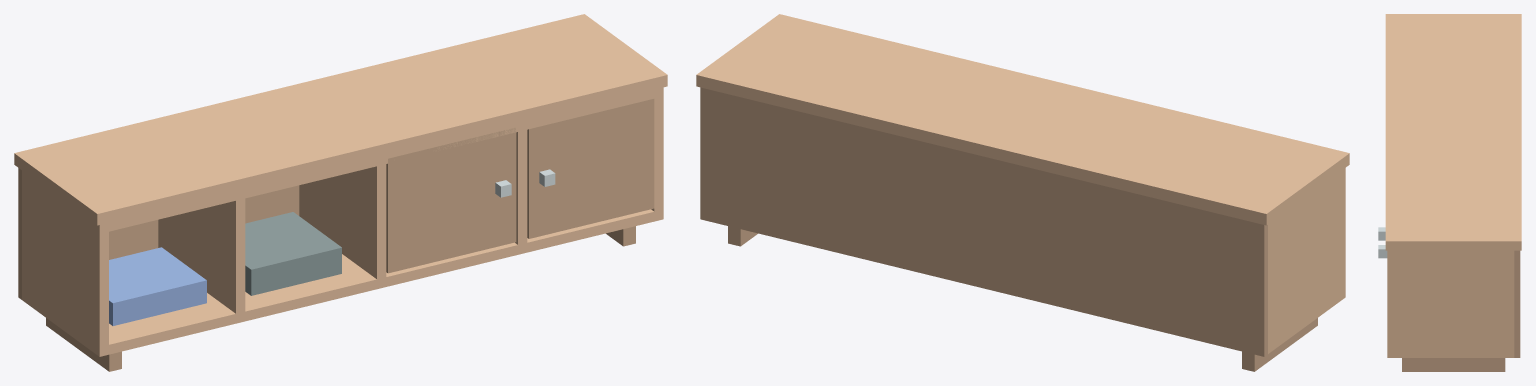
Rendered from mediaCabinetModern.glb.
The picture shows the model from 3 angles, left to right: view 1: azimuth 30°, elevation 25°; view 2: azimuth 150°, elevation 25°; view 3: azimuth 270°, elevation 25°; orthographic projection. The views are drawn at different scales.
Visible parts, largest first — view 1: mediaCabinetModern; view 2: mediaCabinetModern; view 3: mediaCabinetModern.
Boxes of the visible parts, <box> form: mediaCabinetModern: <box>14,14,667,371</box>; mediaCabinetModern: <box>696,14,1349,371</box>; mediaCabinetModern: <box>1378,14,1521,371</box>.
Size of the model in its own units: 0.91 by 0.26 by 0.2425.
